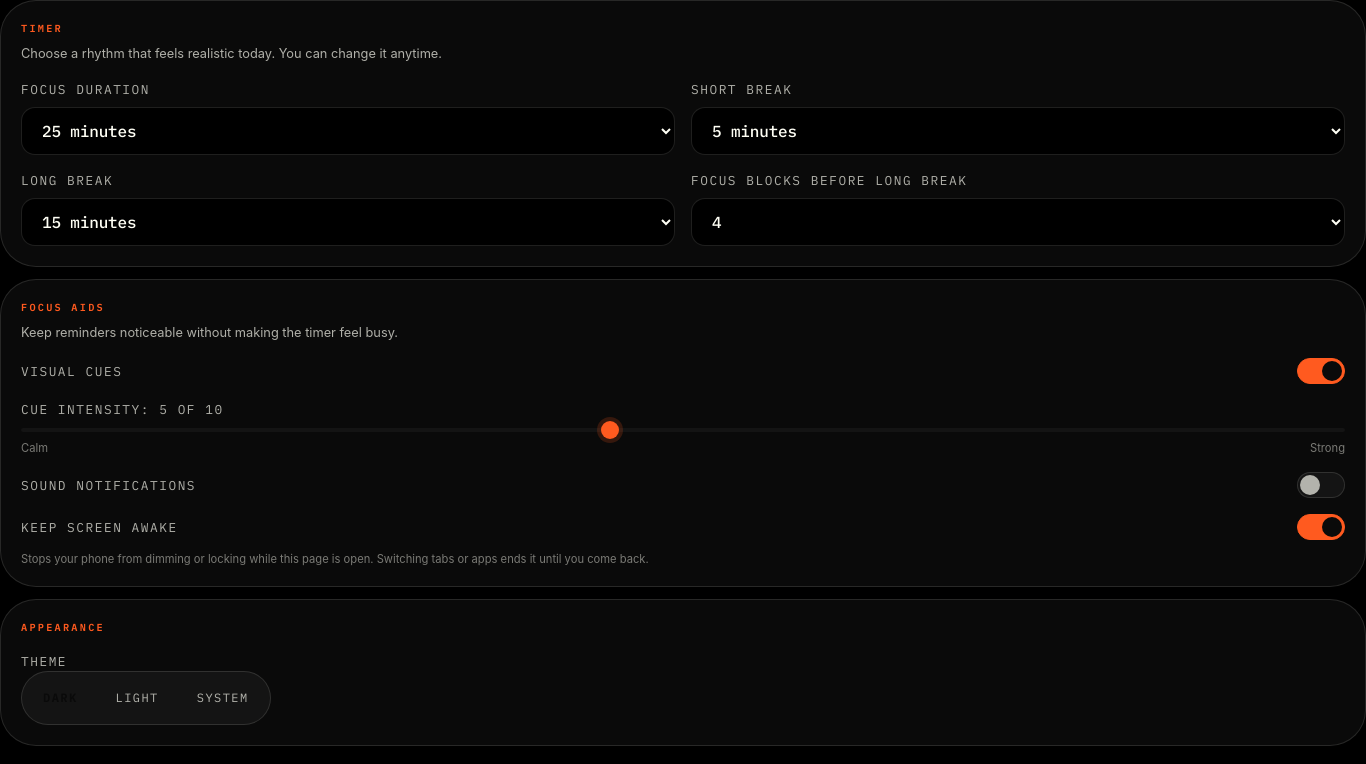
Scenario: SettingsView motion states › initializes toggle motion only after interaction
The image size is (1366, 764).
Click the checkbox labelled "Sound notifications": (1321, 485) [1297,472,1345,498]
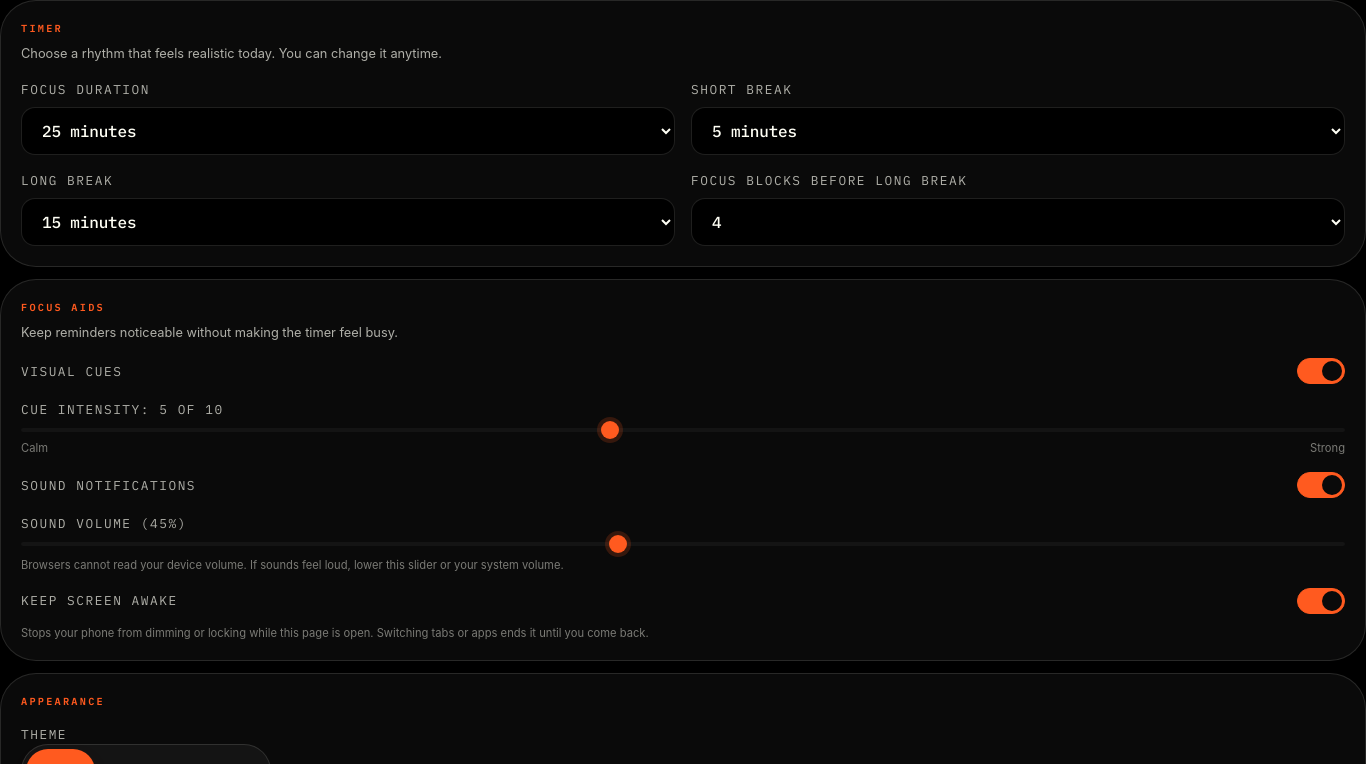
Now the checkbox labelled "Sound notifications" is expanded, box [1297,472,1345,498]
